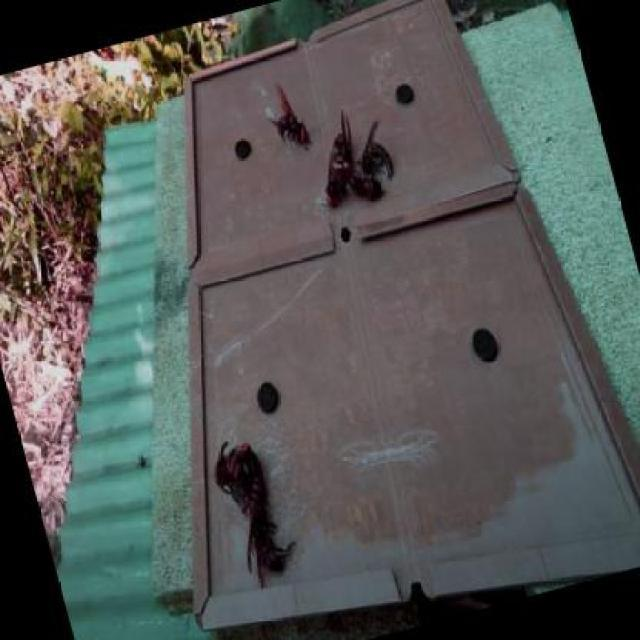Wasp: (250, 76, 316, 151)
